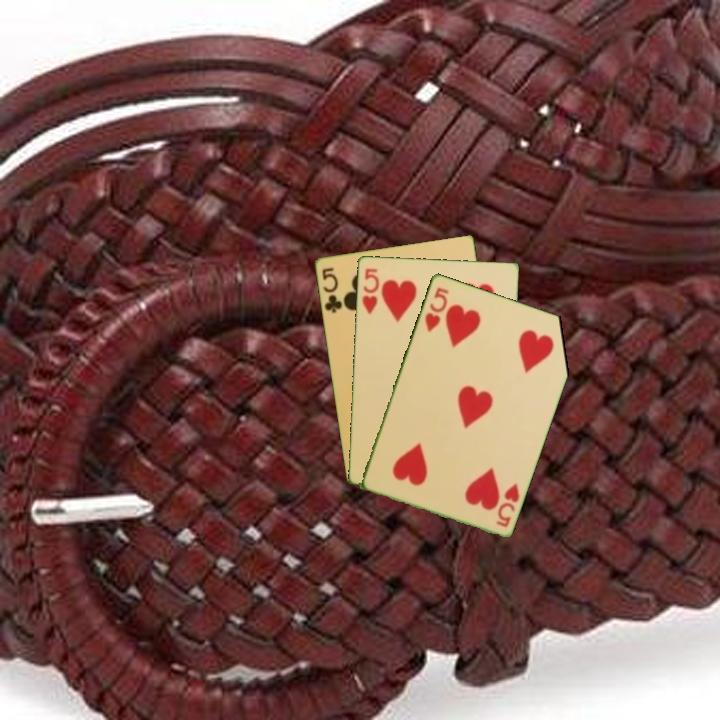5c: (318, 264, 345, 316)
5h: (421, 283, 452, 334), (492, 479, 522, 530), (358, 265, 382, 316)
